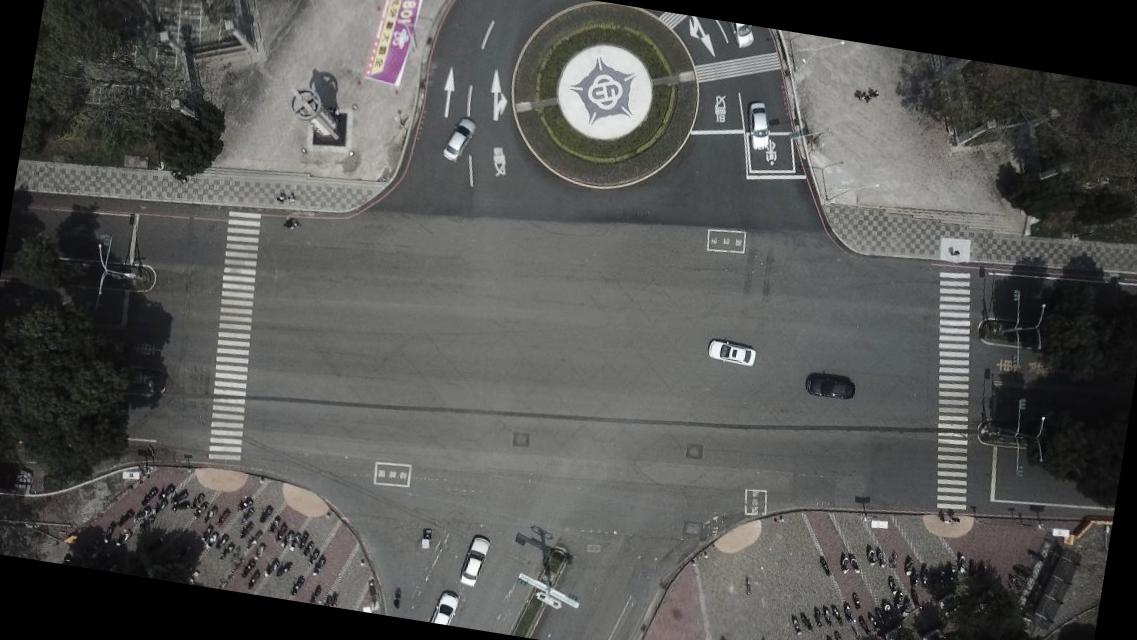vehicle: (457, 534, 490, 588), (743, 100, 775, 152), (442, 114, 476, 162), (803, 370, 856, 400), (706, 338, 758, 367), (429, 589, 460, 625), (725, 22, 755, 48)
